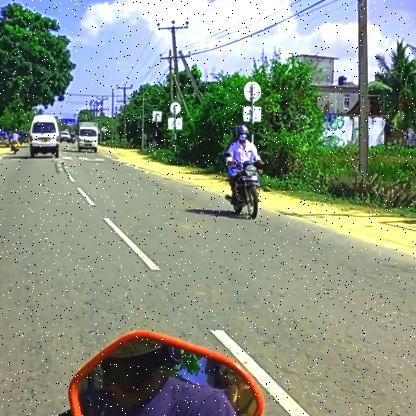motorcycle: (220, 159, 268, 223)
